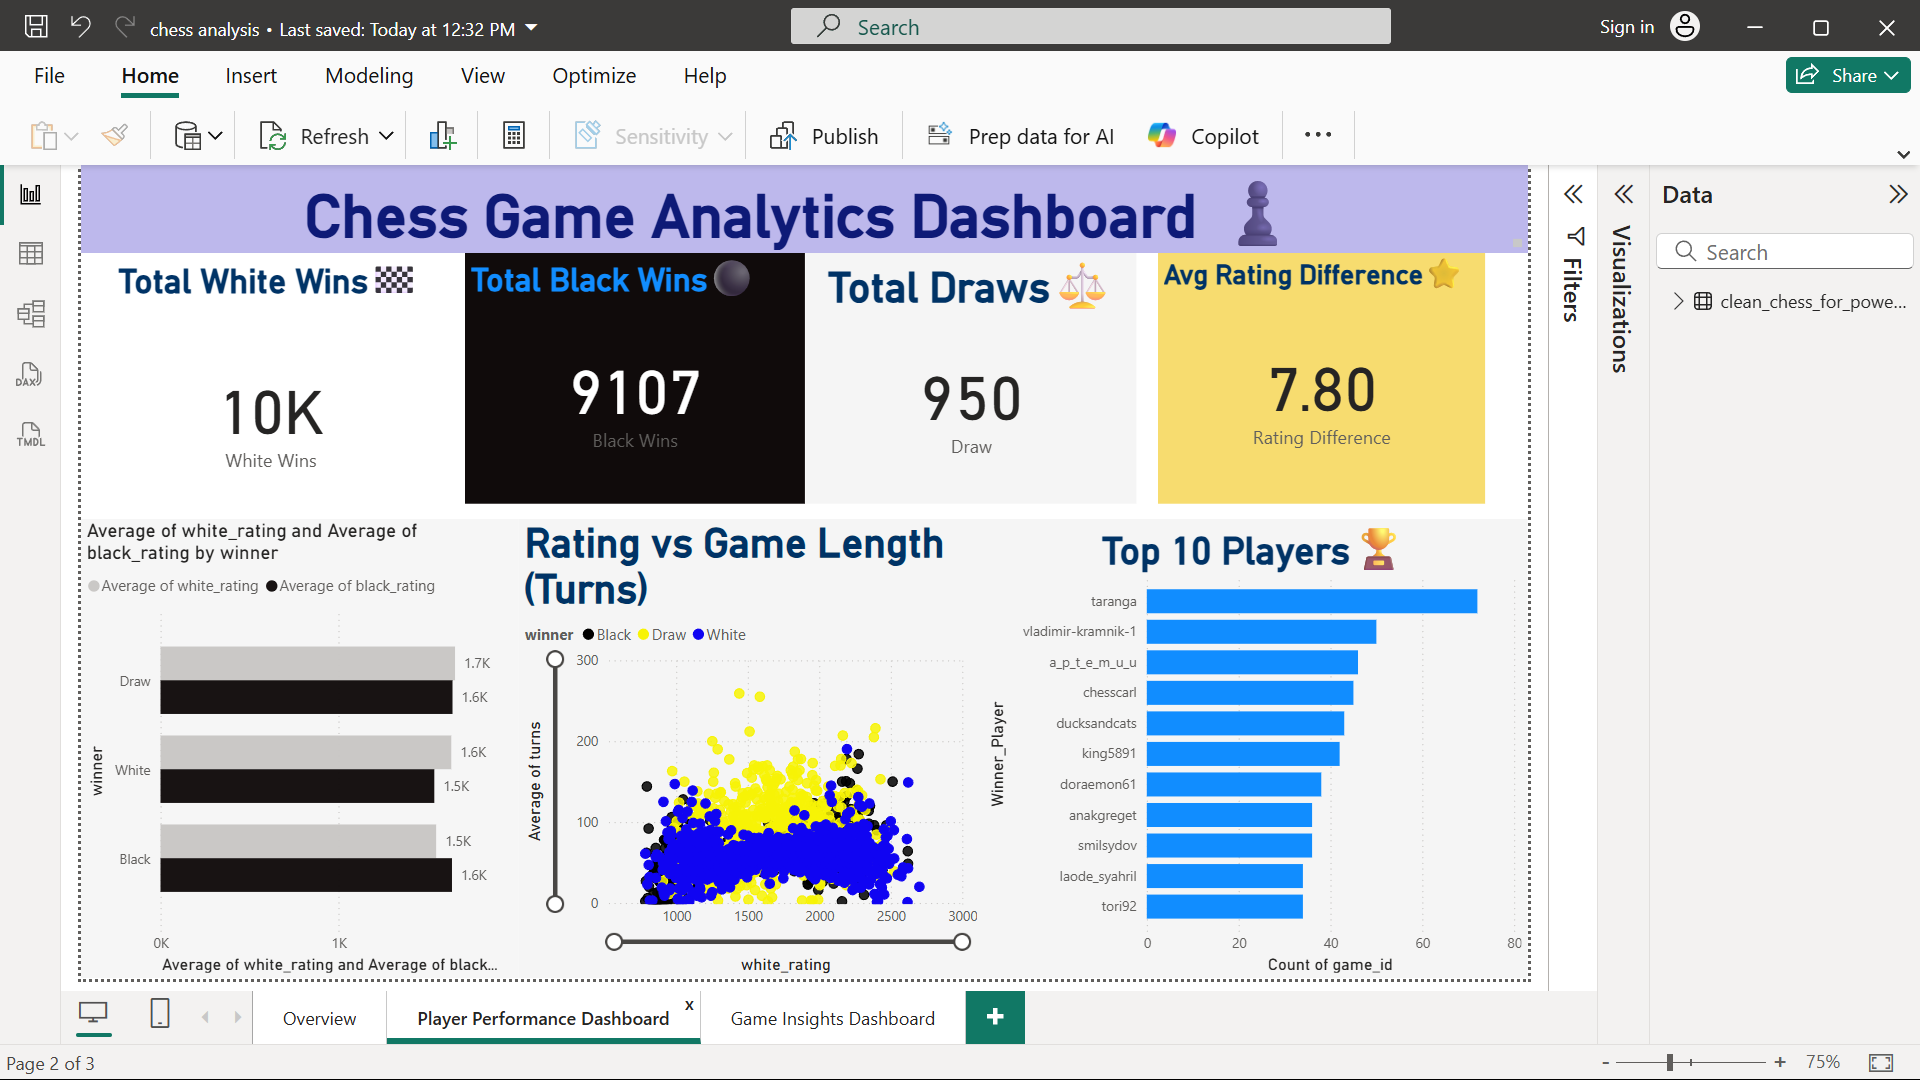

The dashboard page shown, as its layout file describes it:
{"tool":"powerbi","page":{"name":"Player Performance Dashboard","canvas":[1280,720],"ordinal":1},"visuals":[{"type":"card","title":"Total White Wins🏁 ","fields":{"Values":["clean_chess_for_powerbi.White Wins"]},"box":[28.3,77.5,279.7,223],"z":0},{"type":"card","title":"Total Black Wins⚫","fields":{"Values":["clean_chess_for_powerbi.Black Wins"]},"box":[340.2,77.5,300.5,223],"z":1000},{"type":"card","title":"Avg Rating Difference⭐ ","fields":{"Values":["clean_chess_for_powerbi.Rating Difference"]},"box":[952.4,77.5,289.1,223],"z":2000},{"type":"card","title":"Total Draws⚖️ ","fields":{"Values":["clean_chess_for_powerbi.Draw"]},"box":[640.6,77.5,292.9,223],"z":3000},{"type":"clusteredBarChart","fields":{"Category":["clean_chess_for_powerbi.winner"],"Y":["clean_chess_for_powerbi.white_rating","clean_chess_for_powerbi.black_rating"]},"box":[0,313.7,387.4,406.3],"z":4000},{"type":"scatterChart","title":"Rating vs Game Length (Turns)","fields":{"Series":["clean_chess_for_powerbi.winner"],"X":["clean_chess_for_powerbi.white_rating"],"Y":["clean_chess_for_powerbi.turns"]},"box":[387.4,313.7,410.1,406.3],"z":5000},{"type":"barChart","title":"Top 10 Players🏆 ","fields":{"Category":["clean_chess_for_powerbi.Winner_Player"],"Y":["clean_chess_for_powerbi.game_id"]},"box":[797.5,313.7,481.9,406.3],"z":6000},{"type":"textbox","title":" Chess Game Analytics Dashboard ♟️","box":[0,0,1279.4,77.5],"z":6001}]}

Visuals, with their boxes on the page's 1280x720 design canvas (x1, y1, x2, y2). These are canvas units, not pixel positions in the 1920x1080 screenshot, which may show the page scaled, cropped or inside an application window:
"Total White Wins🏁 " card: select_region(28, 78, 308, 300)
"Total Black Wins⚫" card: select_region(340, 78, 641, 300)
"Avg Rating Difference⭐ " card: select_region(952, 78, 1242, 300)
"Total Draws⚖️ " card: select_region(641, 78, 934, 300)
clusteredBarChart - clean_chess_for_powerbi.winner x clean_chess_for_powerbi.white_rating: select_region(0, 314, 387, 720)
"Rating vs Game Length (Turns)" scatterChart: select_region(387, 314, 798, 720)
"Top 10 Players🏆 " barChart: select_region(798, 314, 1279, 720)
" Chess Game Analytics Dashboard ♟️" textbox: select_region(0, 0, 1279, 78)
